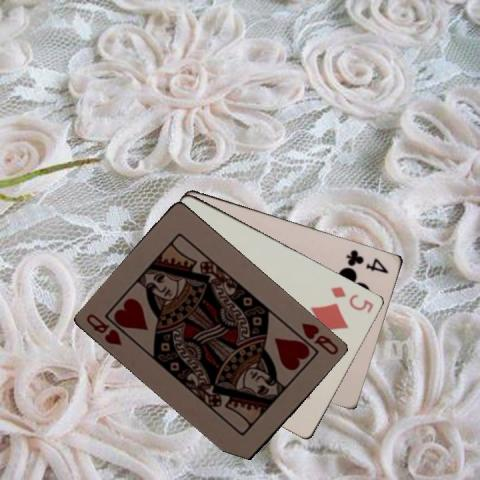4c: (343, 246, 390, 275)
5d: (328, 284, 375, 316)
Qh: (299, 319, 340, 357), (83, 311, 124, 347)
